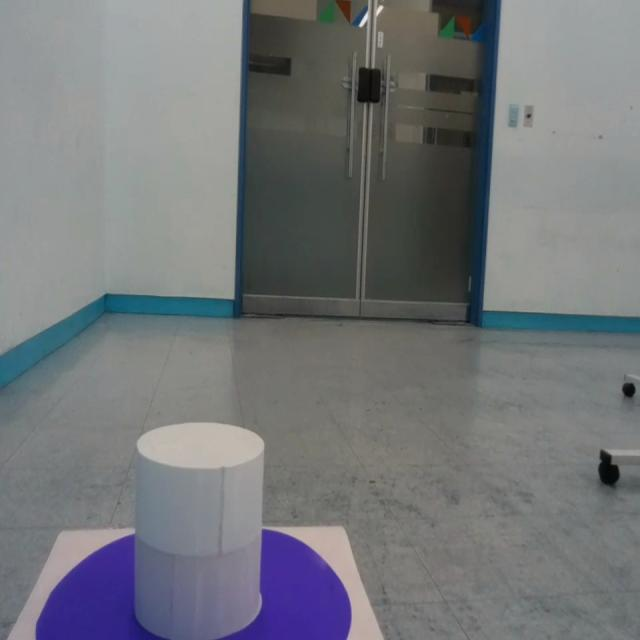cylinder: (134, 422, 266, 638)
